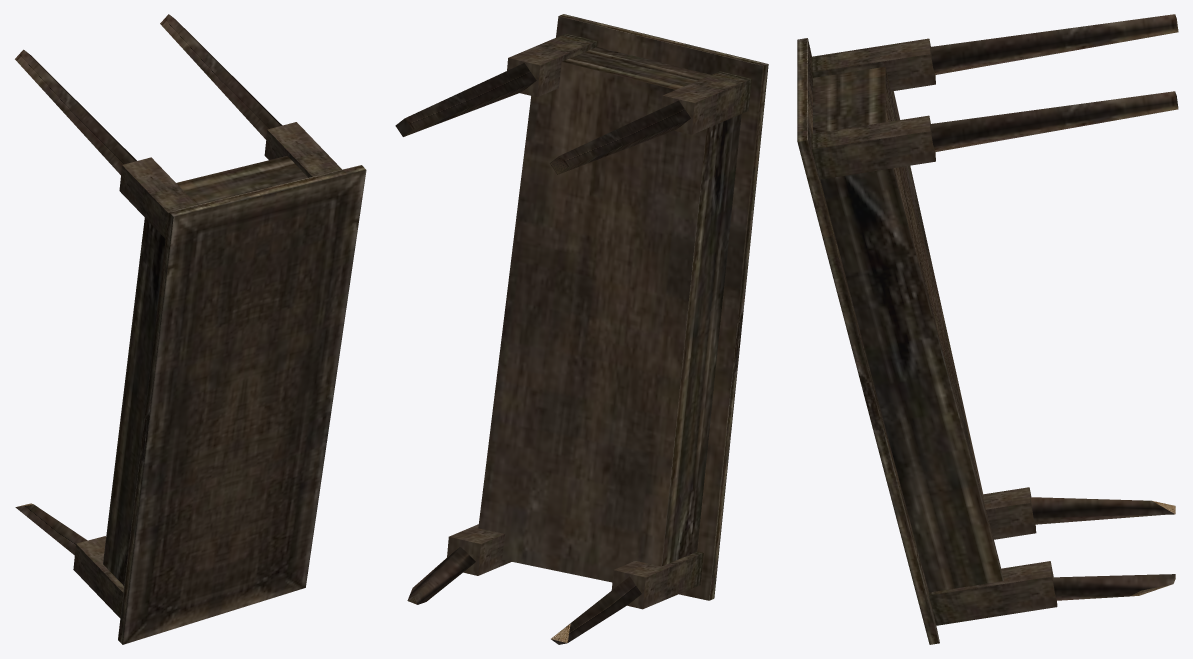
The model's file is furniture_walltable2_d.glb.
3 views of the same model, side by side, from view 1: azimuth 30°, elevation 25°; view 2: azimuth 150°, elevation 25°; view 3: azimuth 270°, elevation 25° (orthographic). The views are drawn at different scales.
Bounding box in the file's own units: 23 × 56.99 × 36.17.
1 material, 1 textured.
